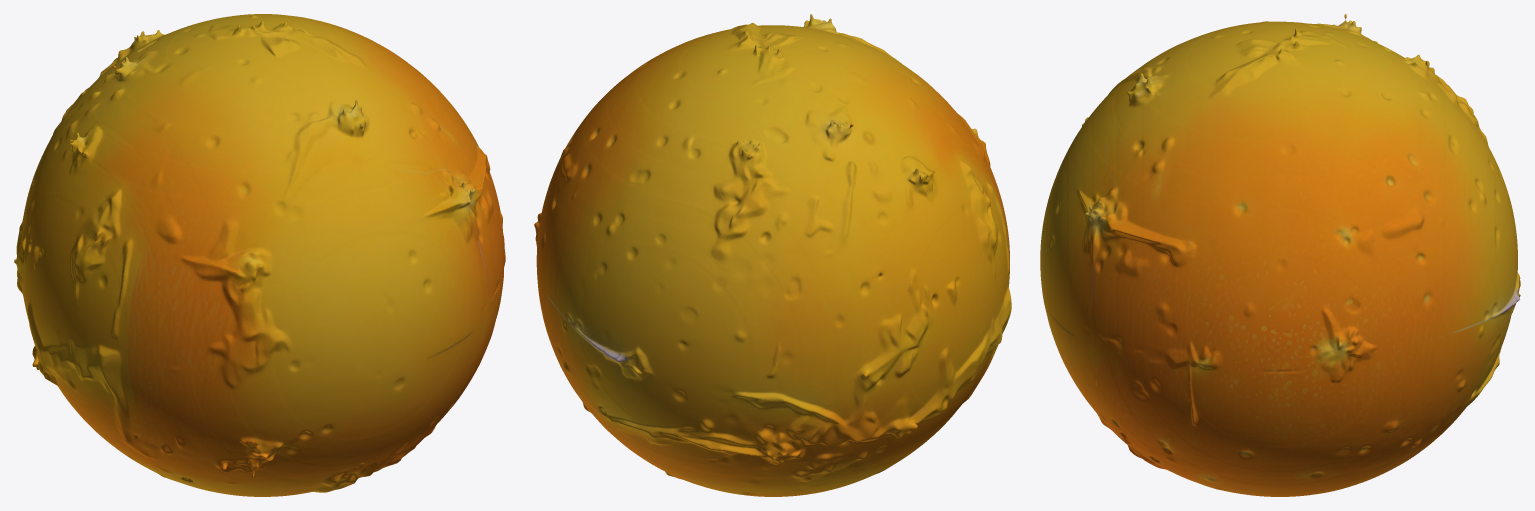
The model's file is sun.glb.
The picture shows the model from 3 angles, left to right: view 1: azimuth 30°, elevation 25°; view 2: azimuth 150°, elevation 25°; view 3: azimuth 270°, elevation 25°; orthographic projection. The views are drawn at different scales.
Visible parts, largest first — view 1: tripo_node_bb02b770-354a-4791-981b-cca04ced3c98; view 2: tripo_node_bb02b770-354a-4791-981b-cca04ced3c98; view 3: tripo_node_bb02b770-354a-4791-981b-cca04ced3c98.
Boxes of the visible parts, x1=… form: tripo_node_bb02b770-354a-4791-981b-cca04ced3c98: x1=14, y1=14, x2=505, y2=496; tripo_node_bb02b770-354a-4791-981b-cca04ced3c98: x1=534, y1=14, x2=1011, y2=496; tripo_node_bb02b770-354a-4791-981b-cca04ced3c98: x1=1040, y1=14, x2=1520, y2=496.
Size of the model in its own units: 0.9823 by 1 by 0.9866.
Materials: 1 (1 with a texture image).
